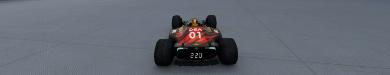Car: (153, 14, 238, 66)
